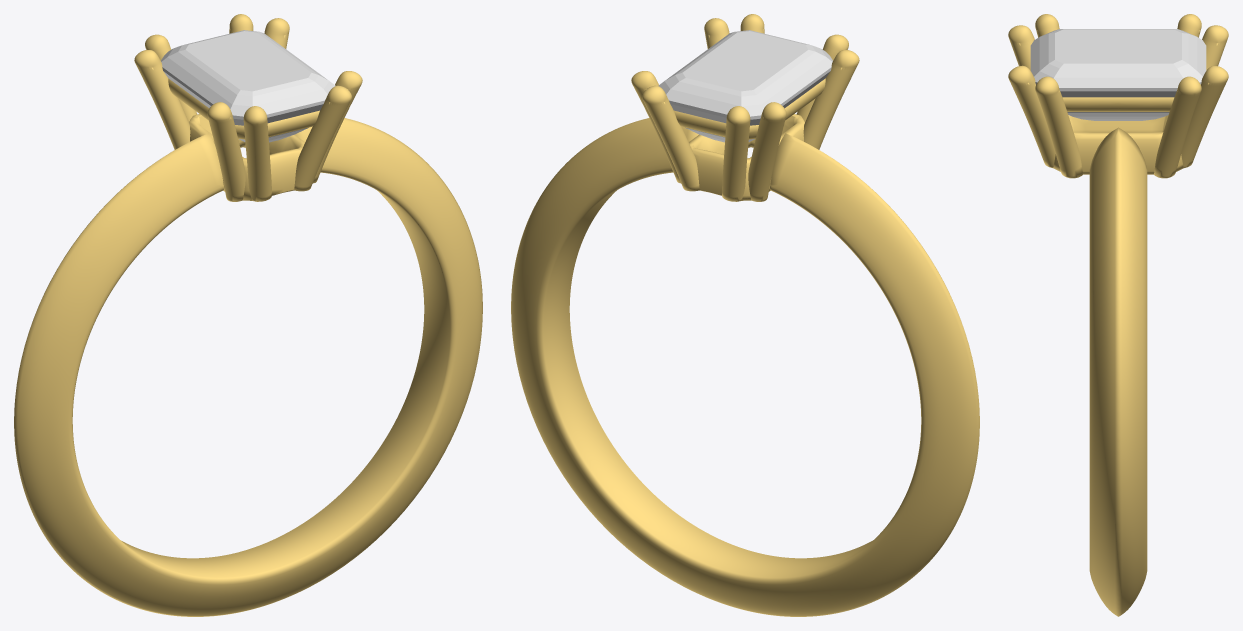
File: diamond-emerald-yellowgold-8prong-knifeedge-solitaire.glb
The picture shows the model from 3 angles, left to right: view 1: azimuth 30°, elevation 25°; view 2: azimuth 150°, elevation 25°; view 3: azimuth 270°, elevation 25°; orthographic projection.
Parts seen in each view (by area): view 1: metal.003, stone; view 2: metal.003, stone; view 3: metal.003, stone.
Boxes of the visible parts, x1,y1,x2,y2 form: metal.003: [14, 14, 482, 616]; stone: [161, 30, 335, 142]; metal.003: [511, 14, 979, 616]; stone: [658, 30, 832, 142]; metal.003: [1008, 14, 1228, 616]; stone: [1030, 29, 1206, 120].
Bounding box in the file's own units: 20.5 × 22.94 × 8.4.
